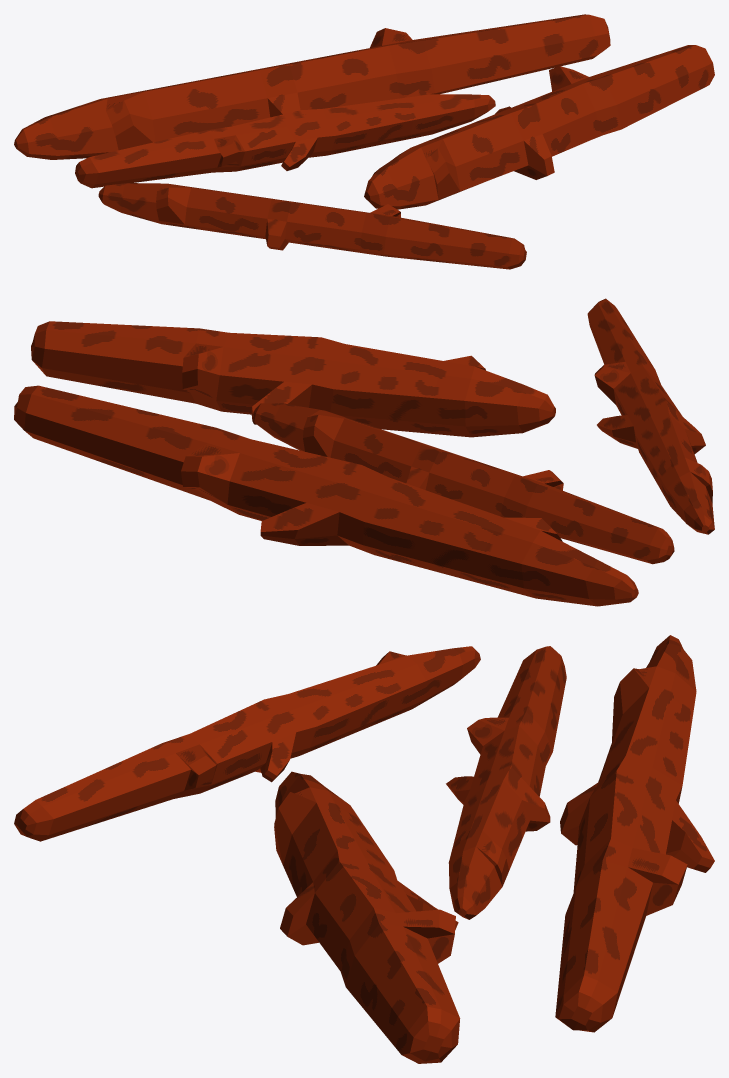
File: sticks.fbx
3 renders of one model, top to bottom at view 1: azimuth 30°, elevation 25°; view 2: azimuth 150°, elevation 25°; view 3: azimuth 270°, elevation 25°, orthographic. The views are drawn at different scales.
Parts seen in each view (by area): view 1: Skick1, Skick3, Skick4, Skick2; view 2: Skick1, Skick3, Skick4, Skick2; view 3: Skick1, Skick3, Skick2, Skick4.
Boxes of the visible parts, <box> form: Skick1: <box>14,14,610,159</box>; Skick3: <box>364,45,714,209</box>; Skick4: <box>75,89,495,188</box>; Skick2: <box>98,183,526,269</box>; Skick1: <box>14,385,638,606</box>; Skick3: <box>31,321,555,437</box>; Skick4: <box>253,403,674,564</box>; Skick2: <box>587,298,714,534</box>; Skick1: <box>555,635,714,1032</box>; Skick3: <box>274,771,460,1063</box>; Skick2: <box>14,646,480,841</box>; Skick4: <box>446,646,566,919</box>.
Bounding box in the file's own units: 80.04 × 7.84 × 59.78.
1 material, 1 textured.
